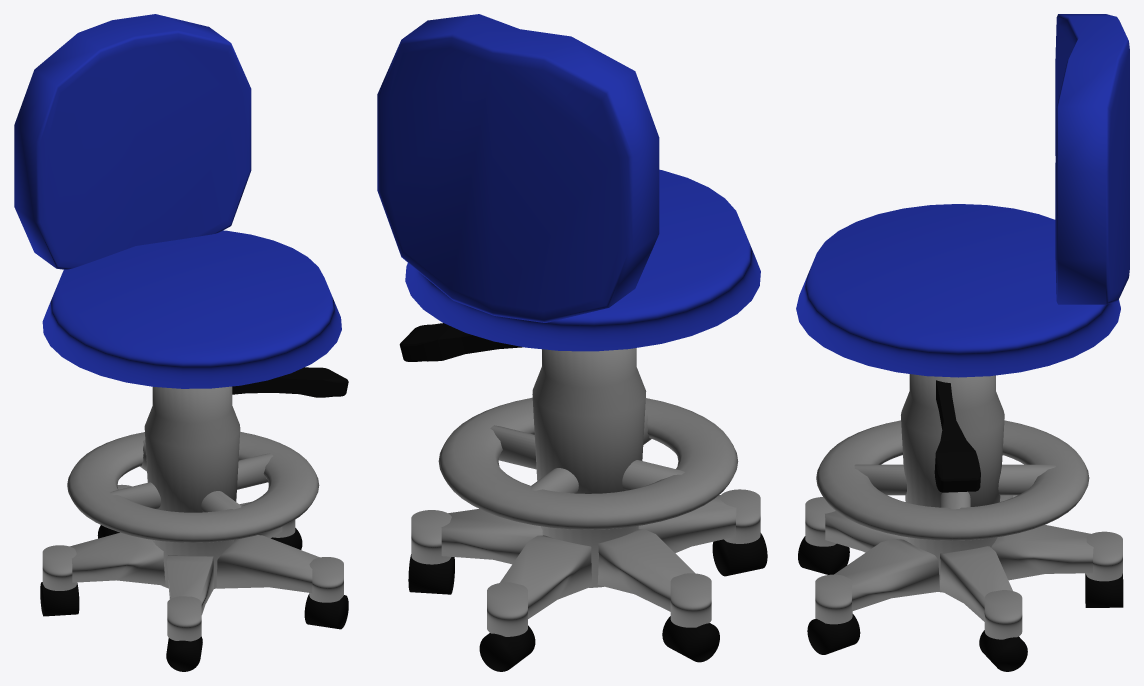
File: Medic.fbx
The picture shows the model from 3 angles, left to right: view 1: azimuth 30°, elevation 25°; view 2: azimuth 150°, elevation 25°; view 3: azimuth 270°, elevation 25°; orthographic projection. The views are drawn at different scales.
Parts seen in each view (by area): view 1: Chair; view 2: Chair; view 3: Chair.
Boxes of the visible parts, left/top/right/bottom form: Chair: left=14, top=14, right=348, bottom=671; Chair: left=377, top=14, right=767, bottom=671; Chair: left=796, top=14, right=1129, bottom=671.
Size of the model in its own units: 203 by 364 by 193.
